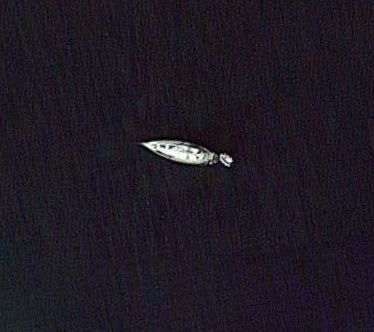boat: (135, 139, 219, 169)
